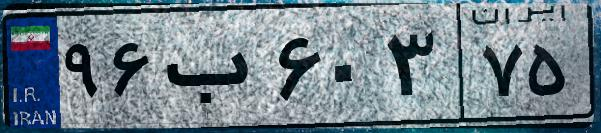0: (330, 28, 385, 110)
3: (385, 28, 445, 110)
5: (525, 38, 570, 115)
6: (270, 28, 330, 110), (110, 28, 158, 98)
7: (475, 38, 525, 113)
9: (57, 26, 110, 100)
ب: (158, 20, 270, 120)
